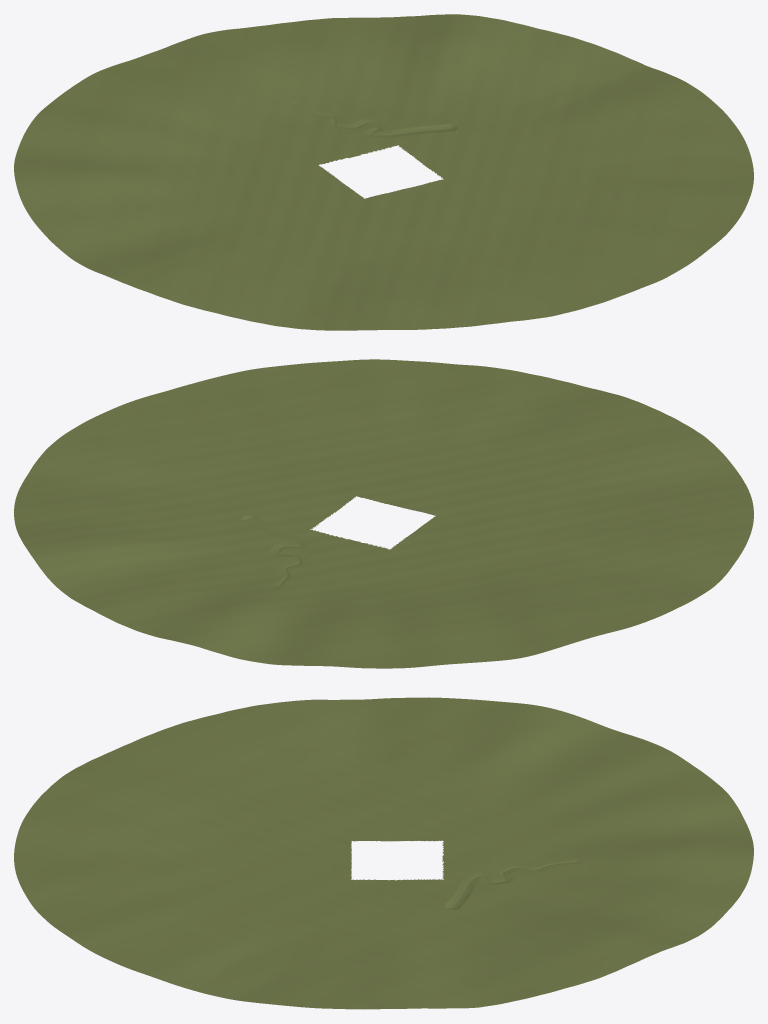
The model's file is distant-land.glb.
3 views of the same model, one above another, from view 1: azimuth 30°, elevation 25°; view 2: azimuth 150°, elevation 25°; view 3: azimuth 270°, elevation 25° (orthographic).
Visible parts, largest first — view 1: C09_DistantLand_OriginalRelief; view 2: C09_DistantLand_OriginalRelief; view 3: C09_DistantLand_OriginalRelief.
Part boxes in pixels (bbox=[...]): C09_DistantLand_OriginalRelief: bbox=[14, 14, 753, 330]; C09_DistantLand_OriginalRelief: bbox=[14, 359, 753, 668]; C09_DistantLand_OriginalRelief: bbox=[14, 697, 753, 1009].
Size of the model in its own units: 3200 by 55.97 by 3200.
